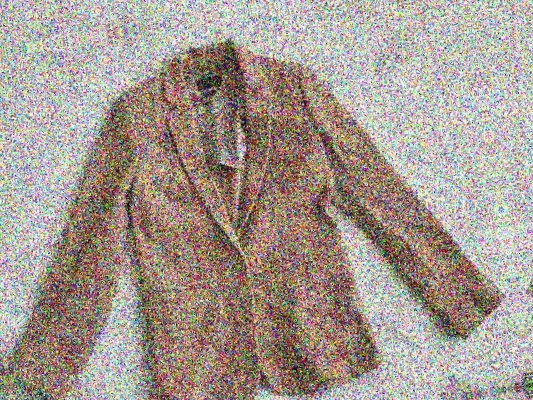Blazer: (0, 0, 511, 400), (481, 0, 533, 358), (0, 0, 441, 37), (0, 83, 7, 400)
